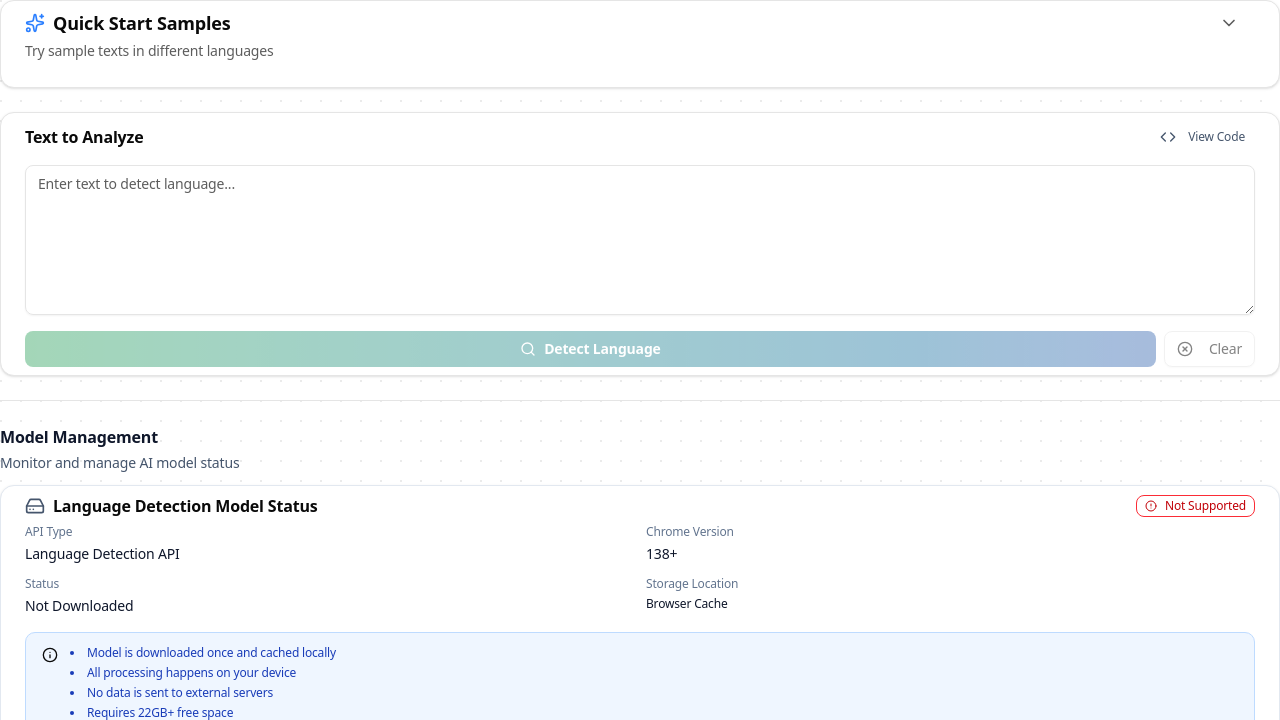
it: Language Detection Integration › Complete Workflow › should complete full detection flow
Note: Enter text
Type "Hello world" into the text box at (640, 240), box [25,165,1255,315]
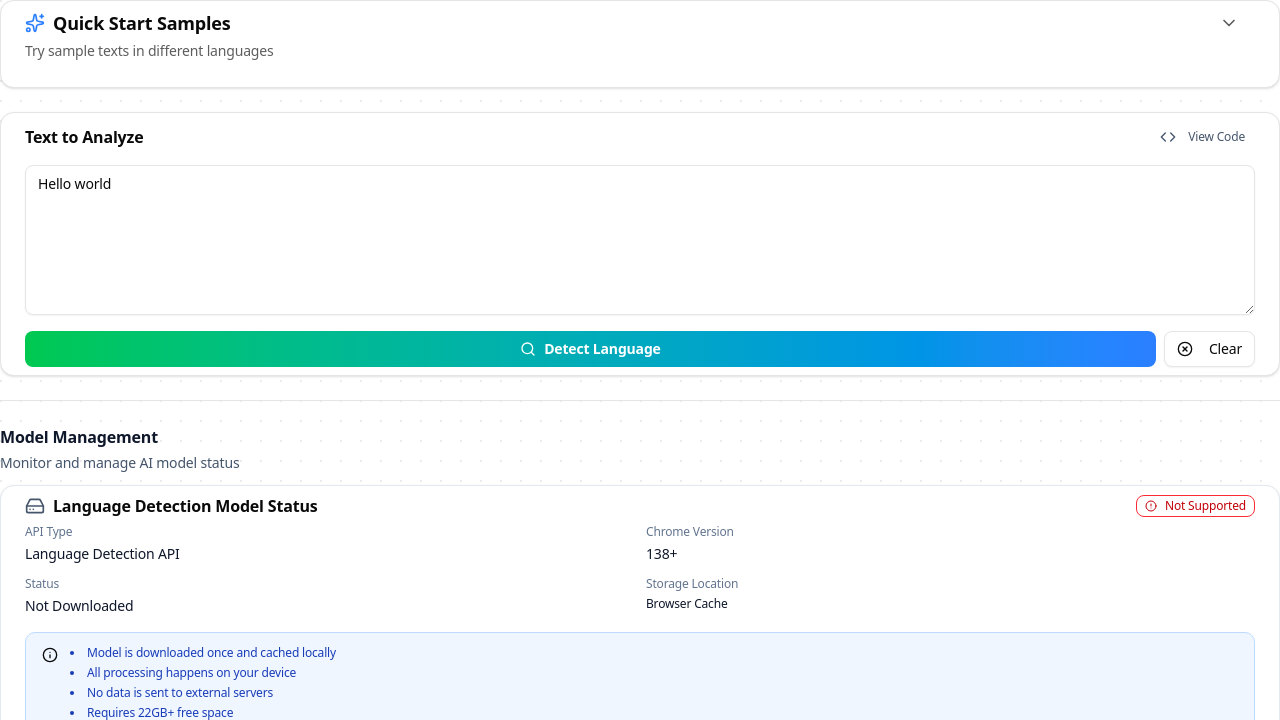
Note: Click detect button
Click the button "Detect Language" at (590, 349), box [25,331,1156,367]
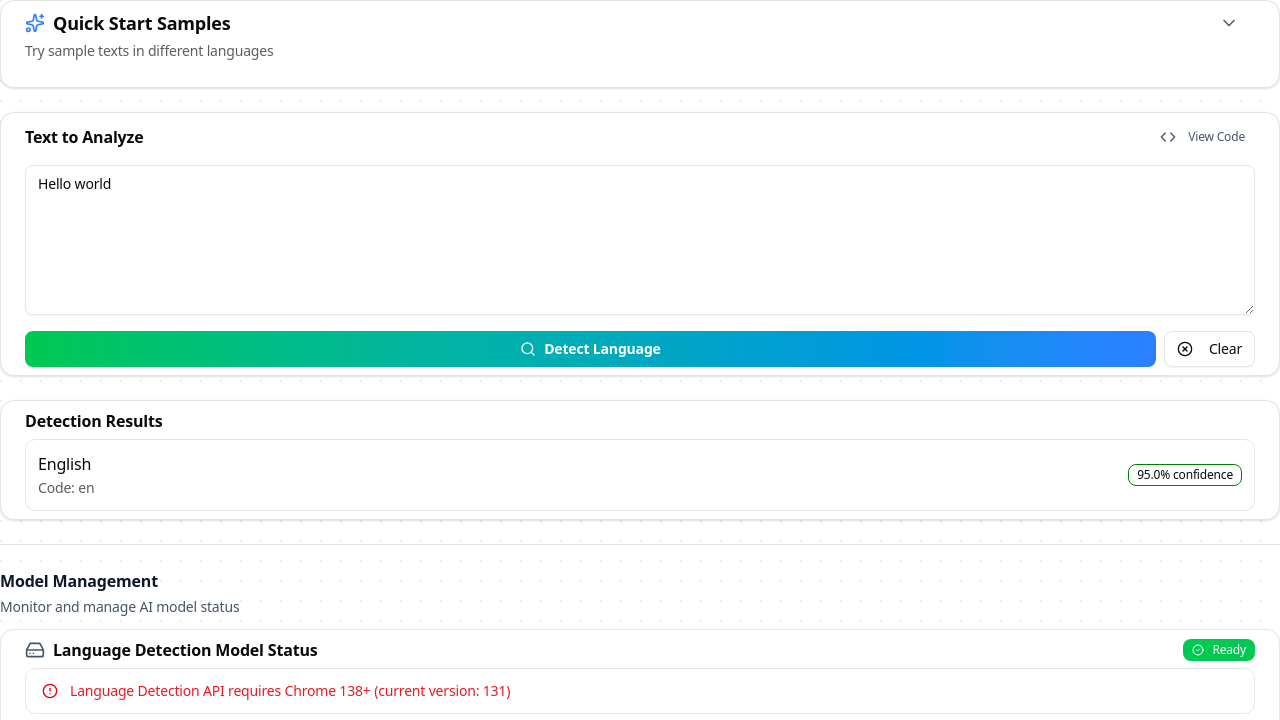
Result: the text "English" is shown at [38,453,91,475]
Result: the text "95.0% confidence" is shown at [1128,464,1242,486]
